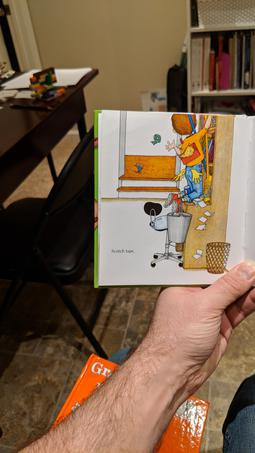text block: (106, 239, 139, 260)
